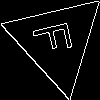F: (31, 16, 82, 57)
